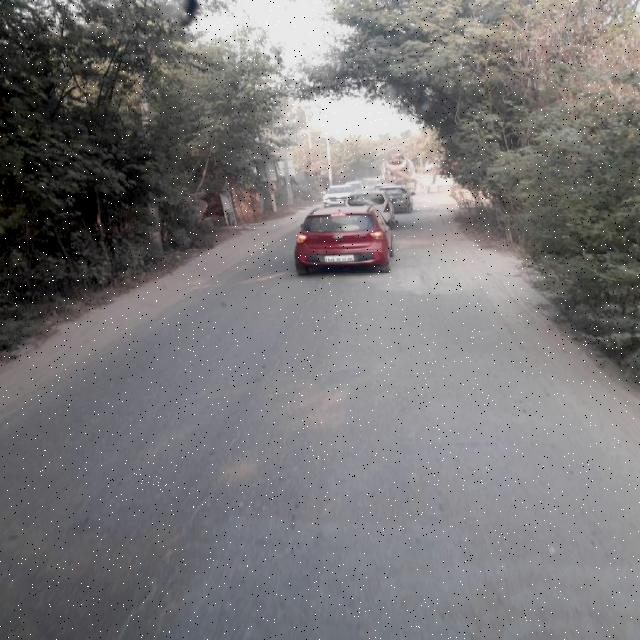D00: (124, 260, 311, 634)
D20: (105, 343, 595, 611)
